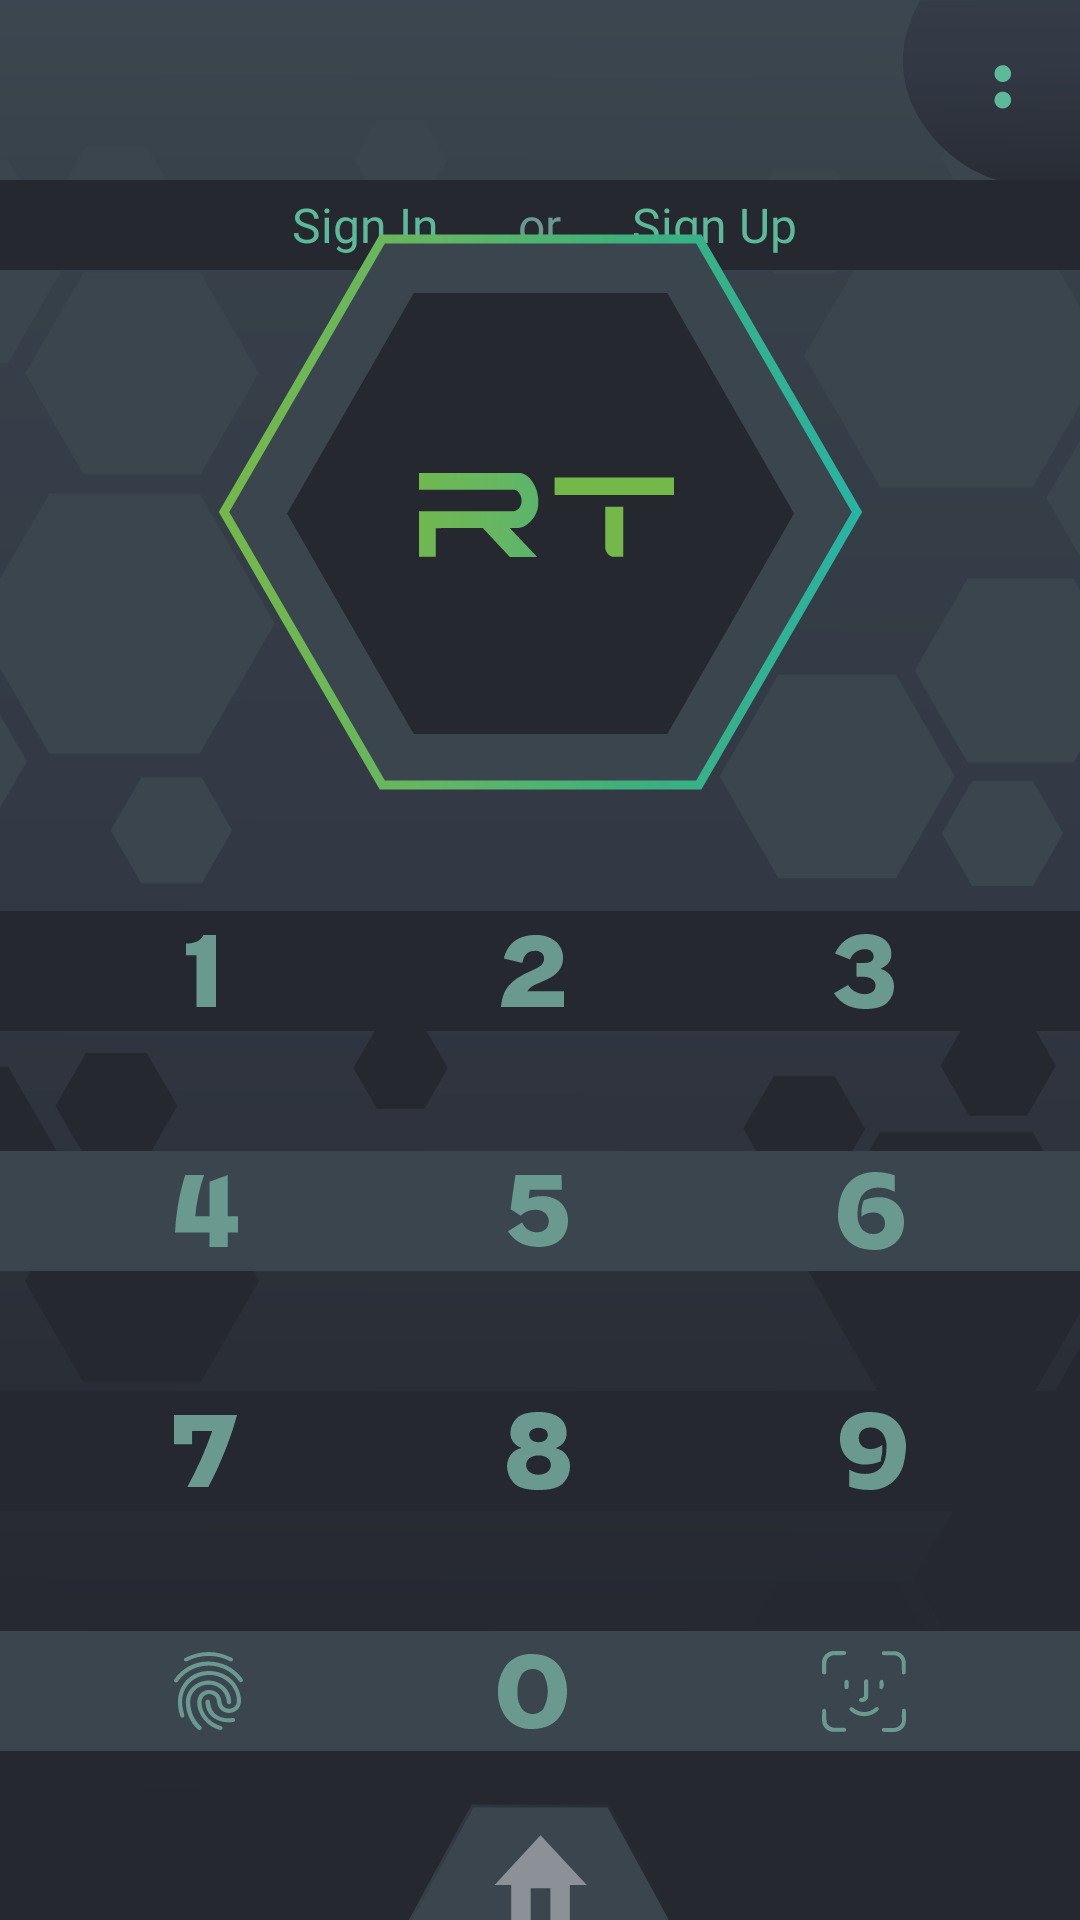

Icon bounding boxes for this 1080×1920 phone screenshot, format (x1,y1,x2,y2):
face id: (822,1651,906,1732)
fingerprint: (174,1652,243,1730)
home: (409,1807,668,1920)
